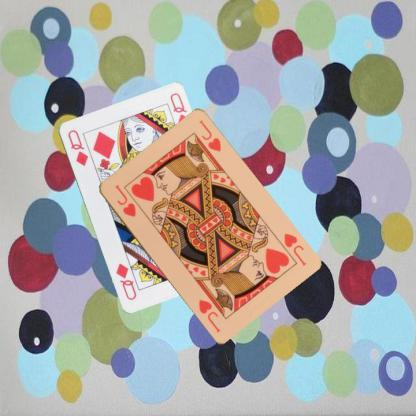Jh: (281, 230, 307, 267), (111, 182, 137, 218)
Qd: (64, 127, 90, 168)
